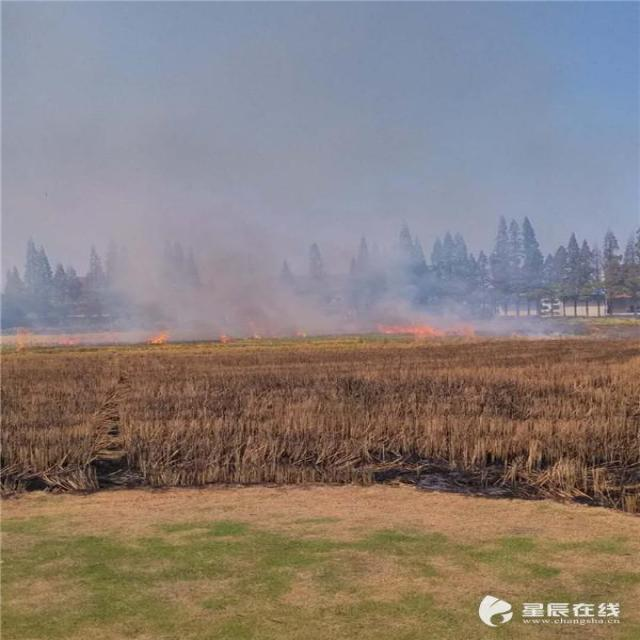fire: (375, 313, 468, 346), (140, 319, 170, 343), (216, 322, 235, 343)
smoke: (212, 238, 287, 314), (127, 245, 172, 316), (380, 242, 419, 294)
